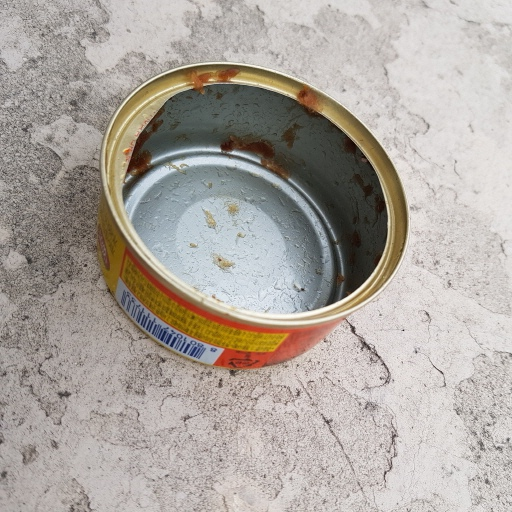Metal_1: (92, 58, 410, 370)
